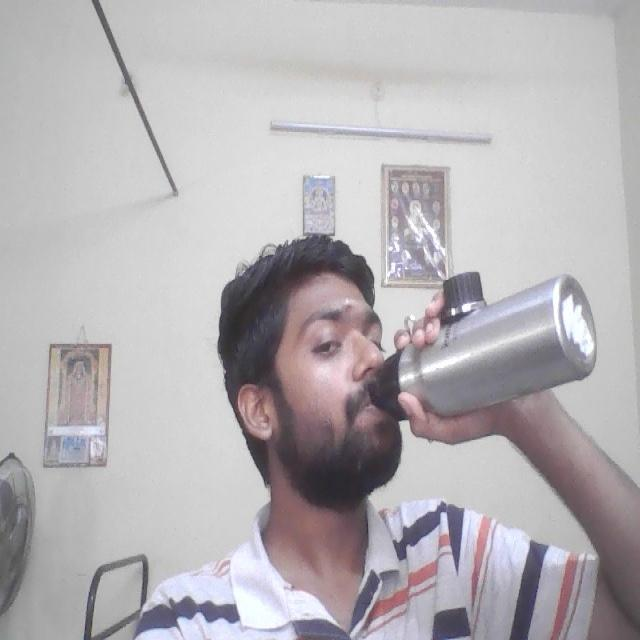Drinking: (363, 264, 605, 430)
